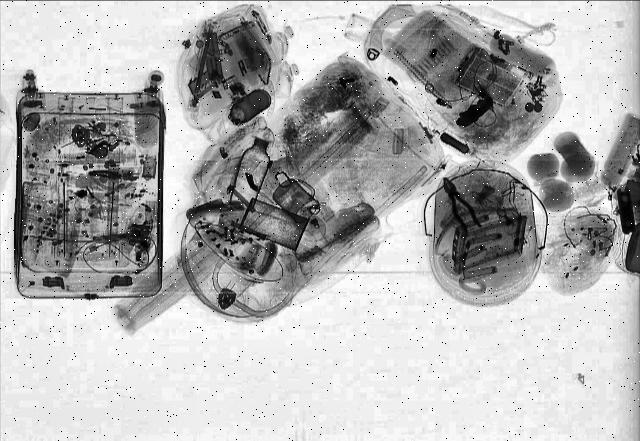Pliers: (434, 176, 486, 232)
